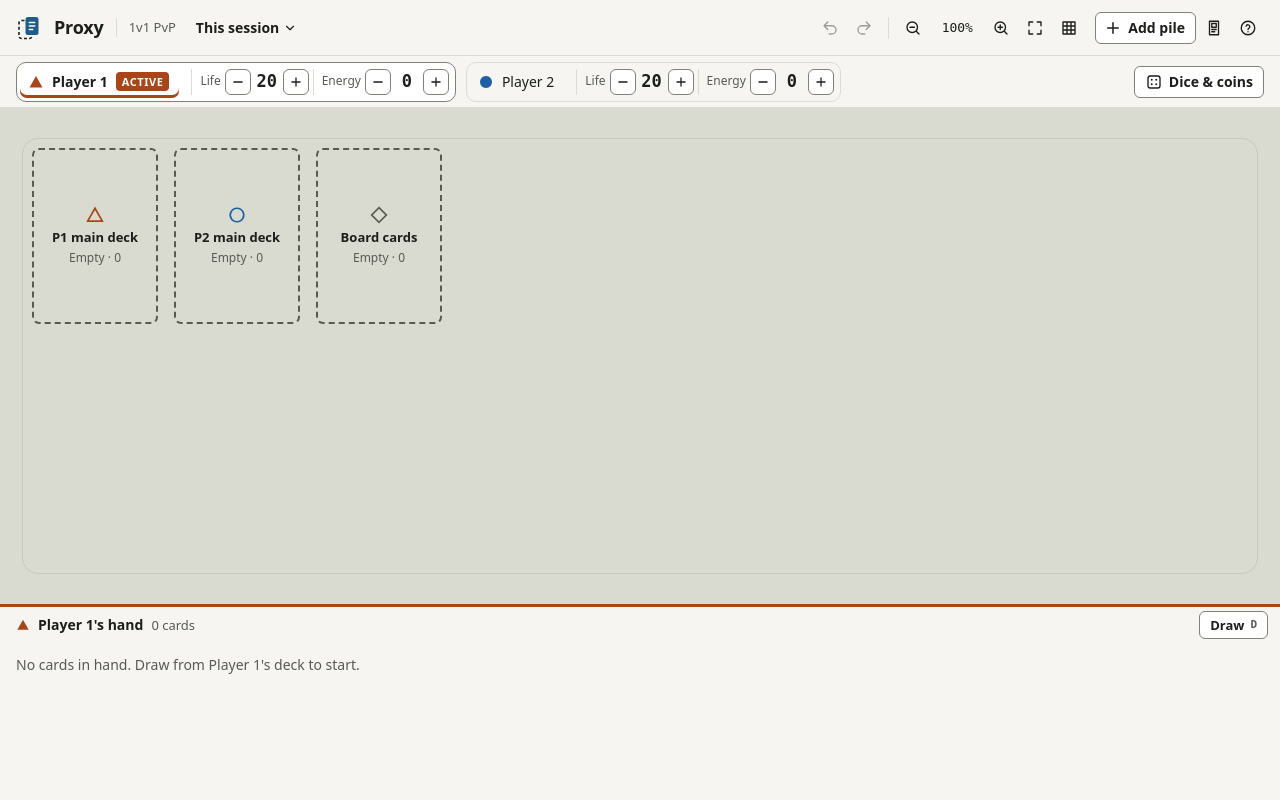
it: FS-3 seat switcher › swaps the hand tray on a click, keeping focus on the switcher
The image size is (1280, 800).
Click the button with aria-label "Player 2, switch to this seat": (517, 82) [470,66,564,98]
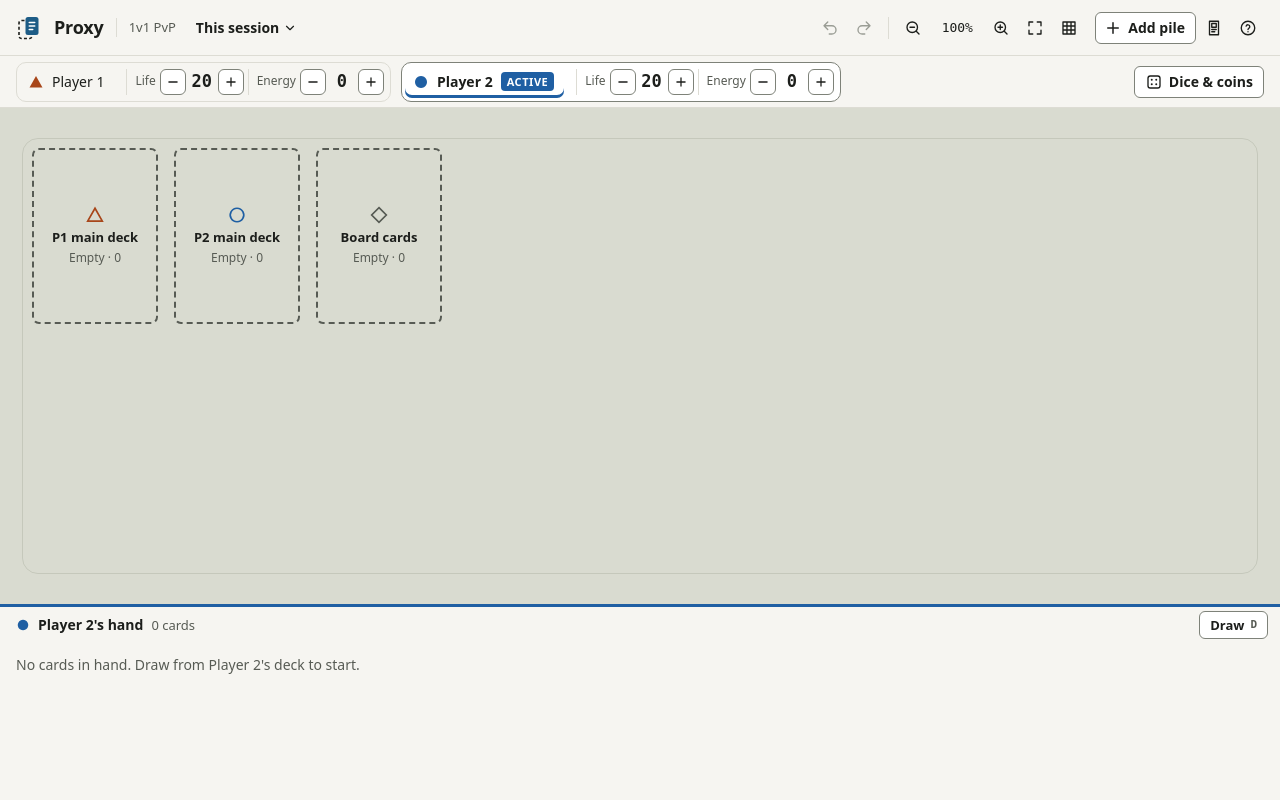
Expected: the heading "Player 2's hand" is shown, [38,615,143,635]
Expected: the heading "Player 1's hand" is gone
